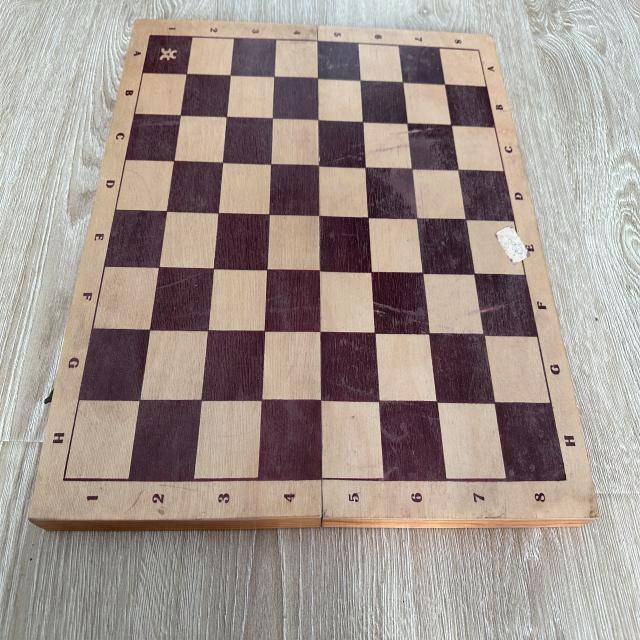chess-table-corners: (54, 468, 72, 491), (560, 470, 574, 490), (472, 40, 486, 60), (145, 28, 155, 42)
